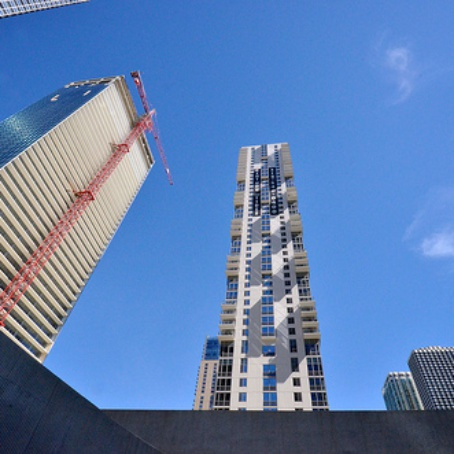building: (1, 80, 160, 350), (206, 131, 335, 404), (375, 346, 454, 411)
crane: (1, 86, 181, 330)
sky: (182, 1, 454, 149)
